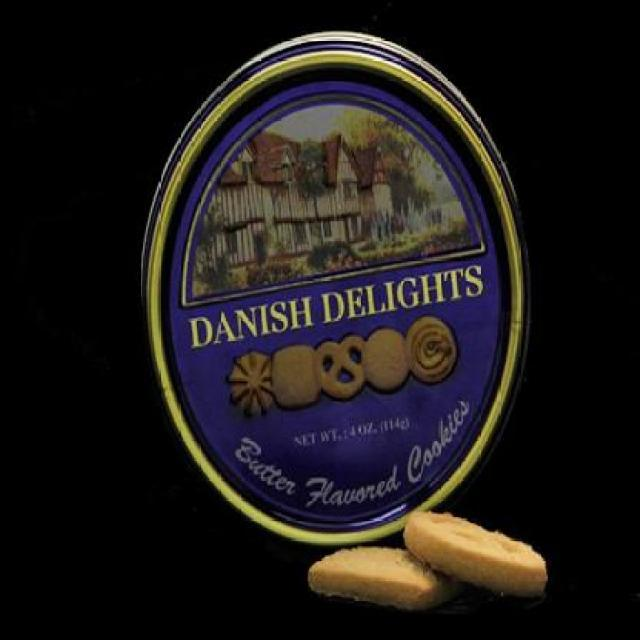Cookie: (114, 29, 520, 540), (410, 508, 550, 590), (308, 542, 434, 615)
